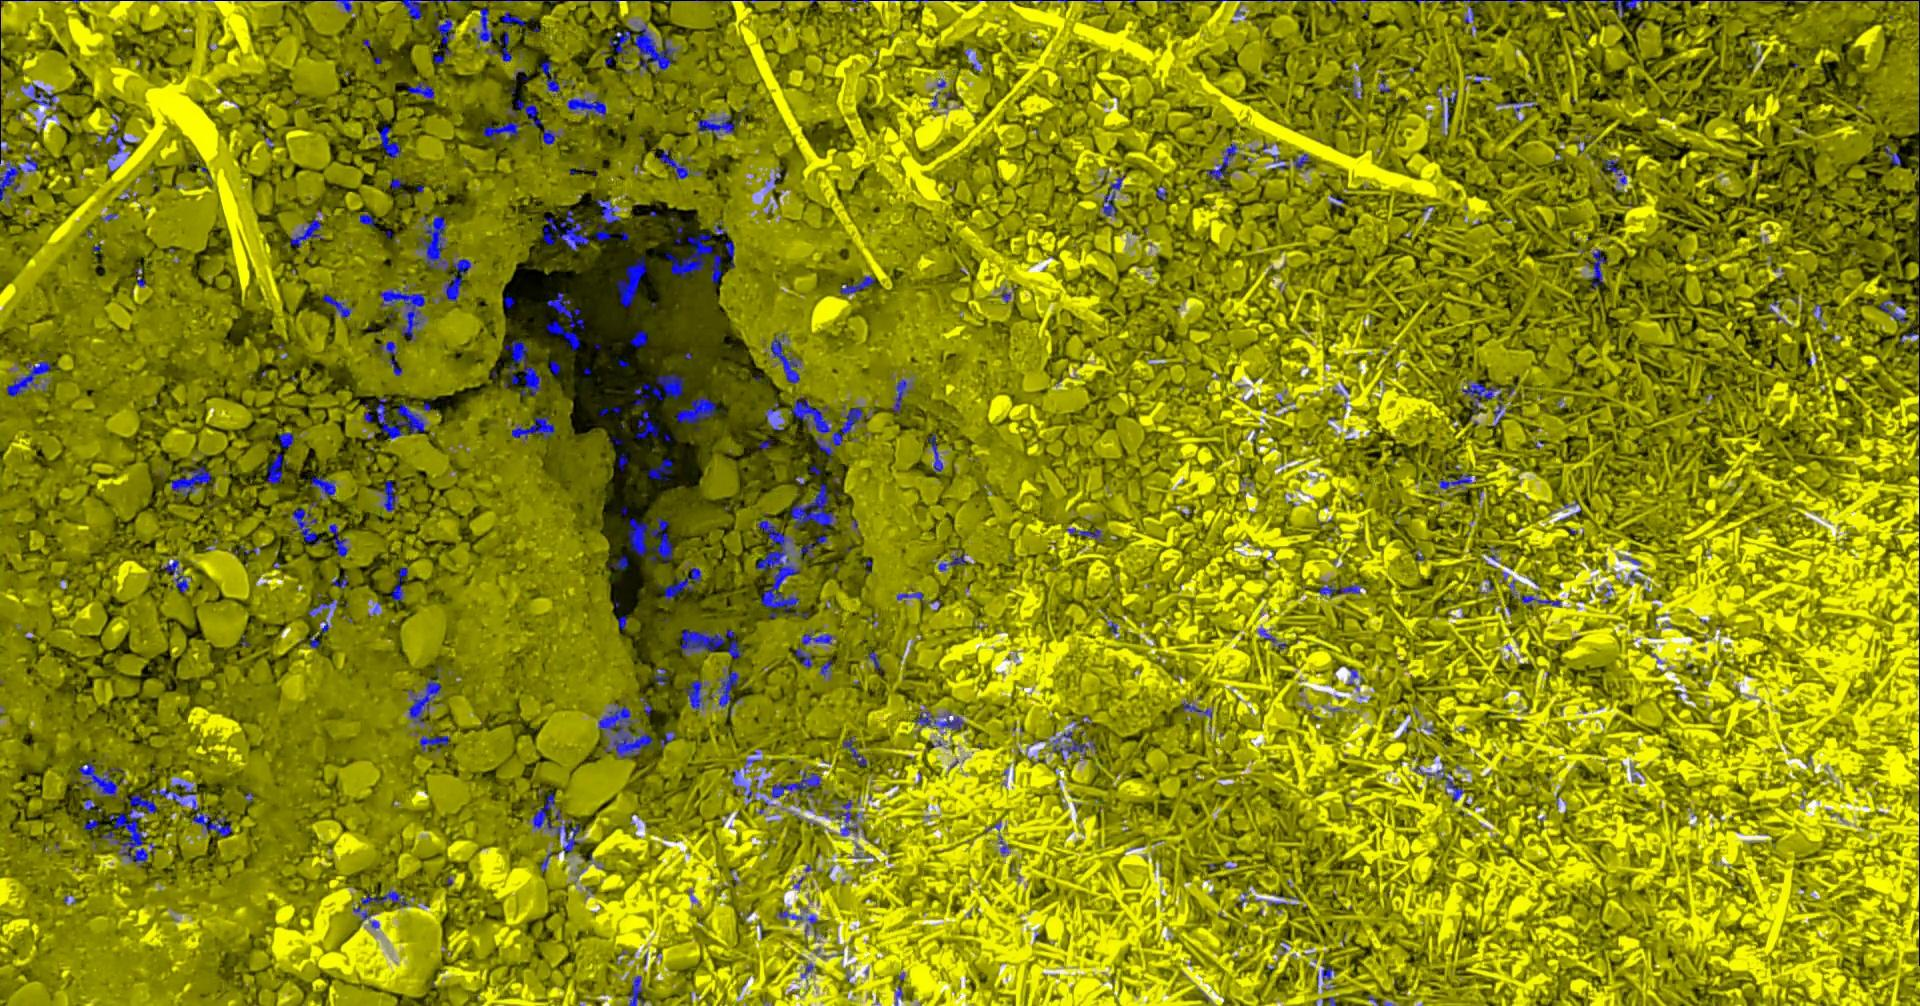ant: (531, 793, 582, 854), (363, 398, 425, 438), (378, 287, 425, 340), (0, 136, 38, 201), (545, 291, 584, 351), (664, 232, 712, 277), (503, 339, 540, 395), (485, 11, 524, 61), (542, 210, 589, 250), (408, 666, 441, 723), (1462, 380, 1502, 426), (681, 629, 743, 658), (632, 373, 684, 405), (5, 361, 51, 396), (615, 255, 646, 306), (77, 761, 122, 796), (770, 334, 801, 384), (95, 116, 135, 155), (190, 799, 231, 836), (770, 770, 820, 799), (663, 567, 701, 602), (676, 396, 715, 431), (1595, 0, 1666, 18), (290, 507, 323, 545), (1051, 730, 1096, 758), (510, 412, 554, 439), (1205, 144, 1237, 180), (170, 467, 211, 495), (432, 11, 453, 64), (658, 149, 696, 178), (368, 124, 401, 158), (507, 98, 543, 126), (150, 782, 194, 805), (778, 909, 817, 935), (290, 217, 323, 246), (1102, 173, 1125, 215), (1435, 768, 1464, 800), (913, 711, 965, 729), (160, 559, 188, 592), (483, 121, 521, 144), (834, 799, 858, 835), (1495, 99, 1538, 118), (897, 591, 940, 610), (684, 680, 712, 709), (568, 95, 604, 117), (717, 669, 739, 706), (361, 889, 408, 906), (697, 116, 740, 133), (538, 60, 559, 97), (1898, 311, 1919, 347), (1878, 298, 1907, 323), (265, 452, 287, 484), (323, 293, 350, 318), (842, 737, 866, 765), (328, 523, 348, 556), (27, 83, 56, 105), (839, 276, 874, 295), (596, 198, 621, 224), (1590, 248, 1605, 290), (635, 410, 658, 438), (1317, 583, 1361, 597), (377, 480, 397, 511), (1601, 159, 1625, 184), (1258, 627, 1286, 649), (927, 433, 942, 471), (891, 379, 908, 412), (391, 567, 408, 600), (476, 8, 491, 43), (1441, 89, 1457, 124), (307, 598, 338, 616), (648, 459, 672, 480), (937, 553, 966, 570), (1182, 701, 1211, 719), (1519, 594, 1559, 607), (406, 81, 434, 99), (1439, 473, 1470, 488), (310, 476, 335, 495), (419, 735, 450, 751), (627, 976, 643, 1005), (400, 0, 422, 19), (1065, 528, 1101, 540), (794, 647, 811, 668), (1317, 962, 1335, 982), (1884, 144, 1901, 165), (801, 633, 832, 644), (867, 652, 883, 674), (629, 329, 648, 347), (352, 904, 373, 920), (710, 254, 721, 282), (607, 555, 627, 570), (378, 340, 397, 356), (1271, 154, 1289, 169), (1291, 152, 1309, 168), (724, 240, 734, 267), (653, 667, 668, 685), (542, 128, 559, 144), (594, 224, 610, 240), (387, 358, 403, 375), (659, 730, 674, 747), (278, 432, 293, 447), (331, 573, 347, 588), (334, 0, 353, 11), (359, 213, 375, 227), (83, 818, 99, 831), (998, 835, 1008, 855), (597, 406, 620, 415), (819, 661, 830, 676), (618, 452, 627, 471), (549, 359, 560, 373), (389, 178, 404, 188), (503, 295, 514, 307), (1156, 185, 1166, 199)
